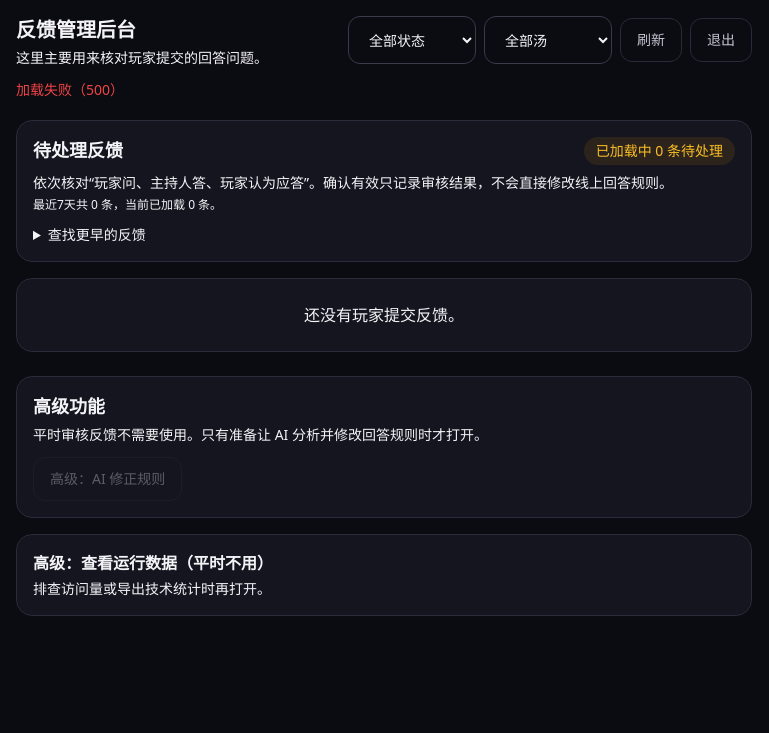
Test: initial http failure leaves an explicit refresh path
Check: the text "加载失败（500）" is shown, box [16,80,124,99]
Click the button "刷新". click: x=651, y=40
box: [620,18,682,62]
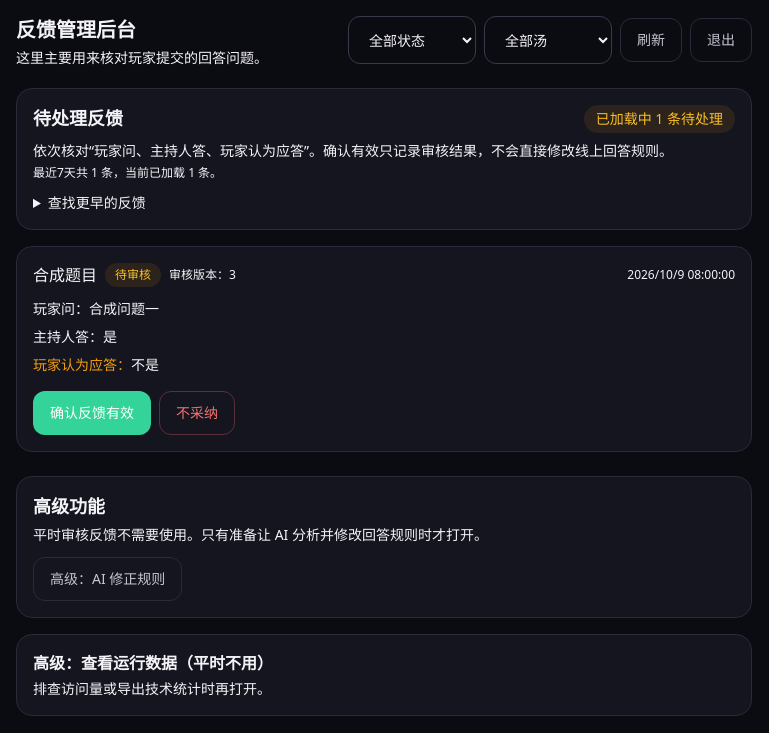
Check: the text "合成问题一" is shown, box [89,299,159,318]
